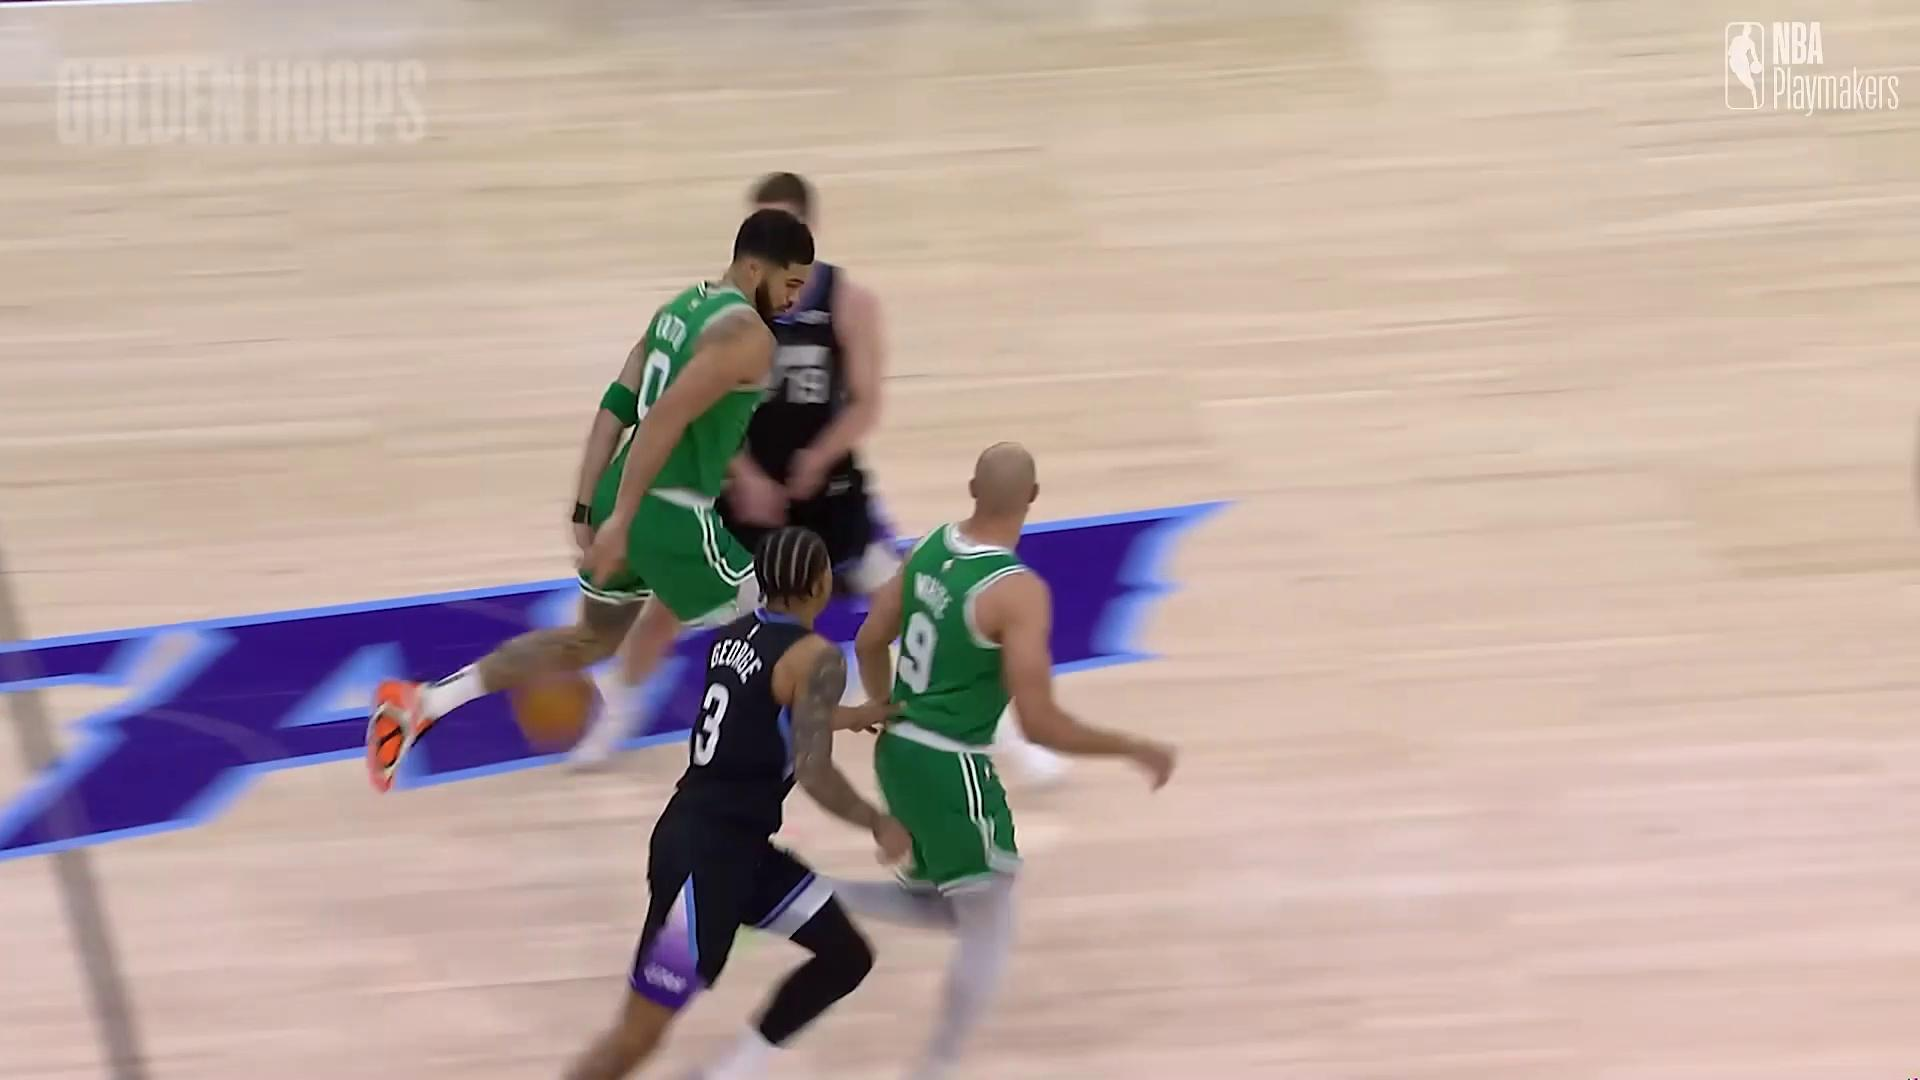ball: (517, 671, 591, 736)
